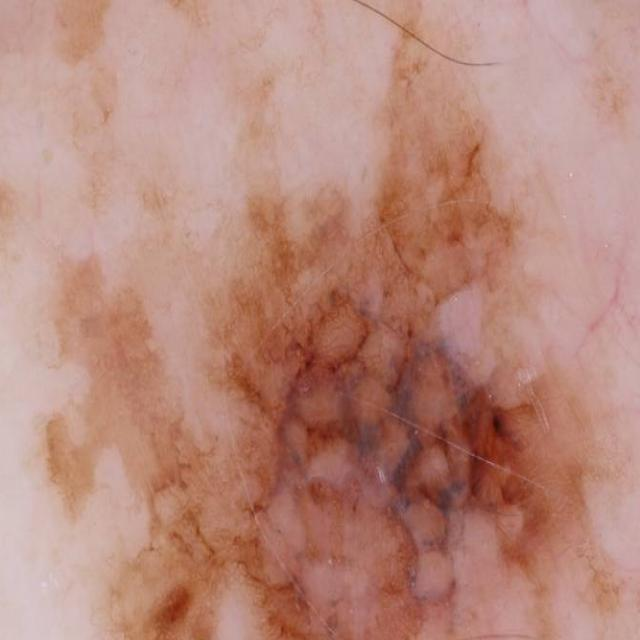Melanoma: (12, 143, 573, 640)
